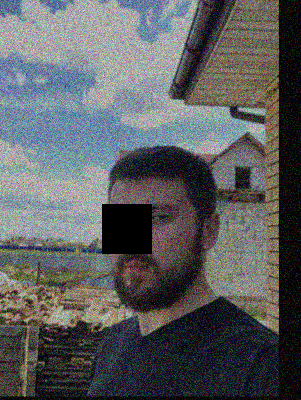without_mask: (106, 193, 189, 313)
